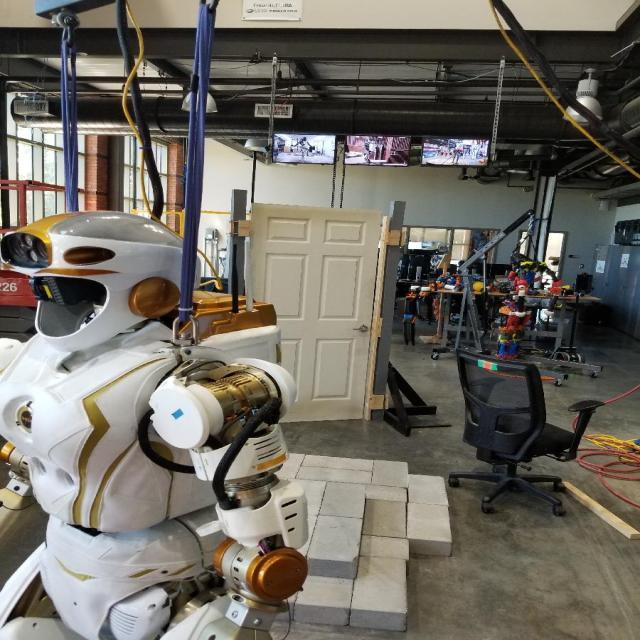door: (240, 201, 384, 427), (347, 322, 375, 337)
